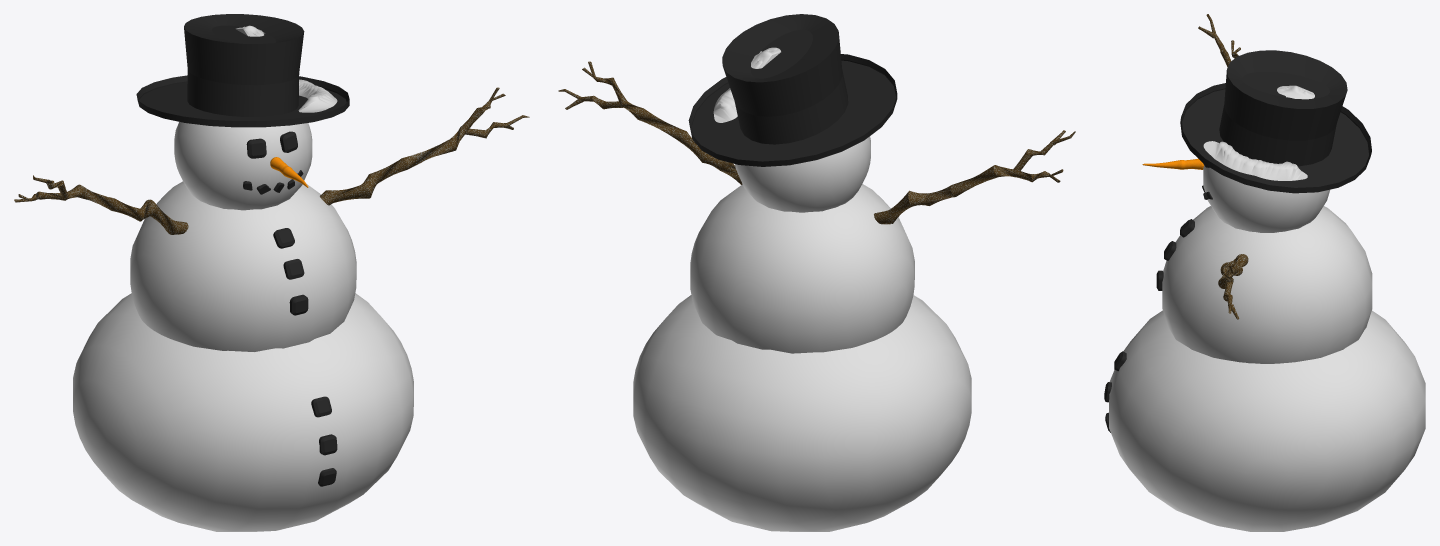
The model's file is snow-man.dae.
3 renders of one model, left to right at view 1: azimuth 30°, elevation 25°; view 2: azimuth 150°, elevation 25°; view 3: azimuth 270°, elevation 25°, orthographic. The views are drawn at different scales.
Parts seen in each view (by area): view 1: group_1, group_2, group_4 (×4), group_3, Group_15 (×2), group_5; view 2: group_1, group_2, group_4 (×4), group_3, Group_15 (×2); view 3: group_1, group_2, group_4 (×4), group_3, group_5, Group_15, group_0, group_6.
Part boxes in pixels (x1=…): group_1: x1=73, y1=293, x2=413, y2=531; group_2: x1=130, y1=181, x2=356, y2=351; group_4 (×4): x1=136, y1=14, x2=349, y2=127; group_3: x1=174, y1=122, x2=312, y2=210; Group_15 (×2): x1=18, y1=93, x2=505, y2=234; group_5: x1=298, y1=79, x2=337, y2=112; group_1: x1=633, y1=295, x2=971, y2=531; group_2: x1=690, y1=184, x2=914, y2=353; group_4 (×4): x1=688, y1=14, x2=897, y2=166; group_3: x1=735, y1=136, x2=870, y2=212; Group_15 (×2): x1=582, y1=67, x2=1063, y2=224; group_1: x1=1109, y1=310, x2=1425, y2=531; group_2: x1=1162, y1=206, x2=1372, y2=363; group_4 (×4): x1=1180, y1=50, x2=1371, y2=193; group_3: x1=1203, y1=165, x2=1329, y2=232; group_5: x1=1203, y1=141, x2=1307, y2=180; Group_15: x1=1218, y1=254, x2=1248, y2=288; group_0: x1=1142, y1=158, x2=1203, y2=169; group_6: x1=1277, y1=85, x2=1314, y2=99.
Size of the model in its own units: 76.12 by 44.72 by 68.79.
